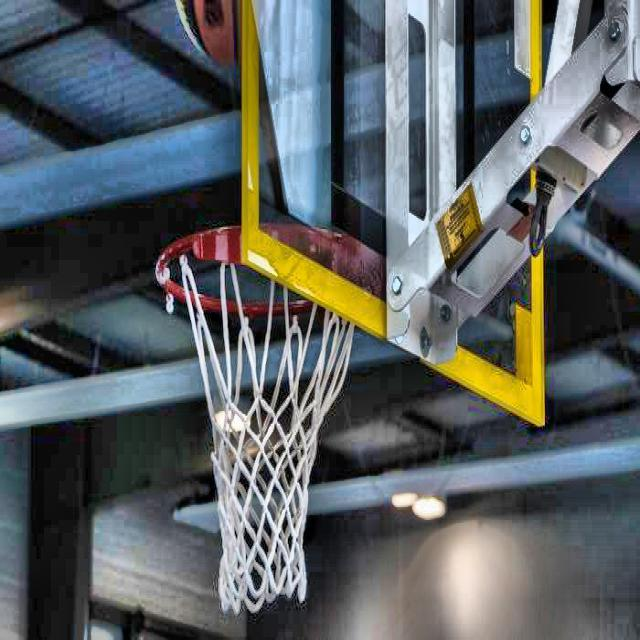rim: (156, 226, 348, 606)
